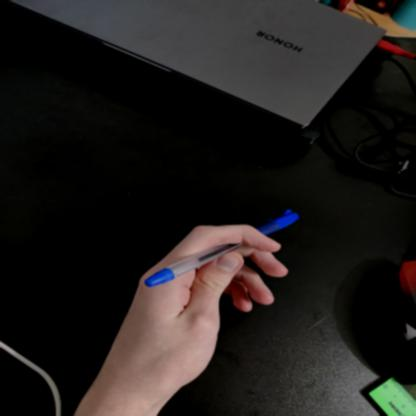Pen: (132, 214, 314, 288)
